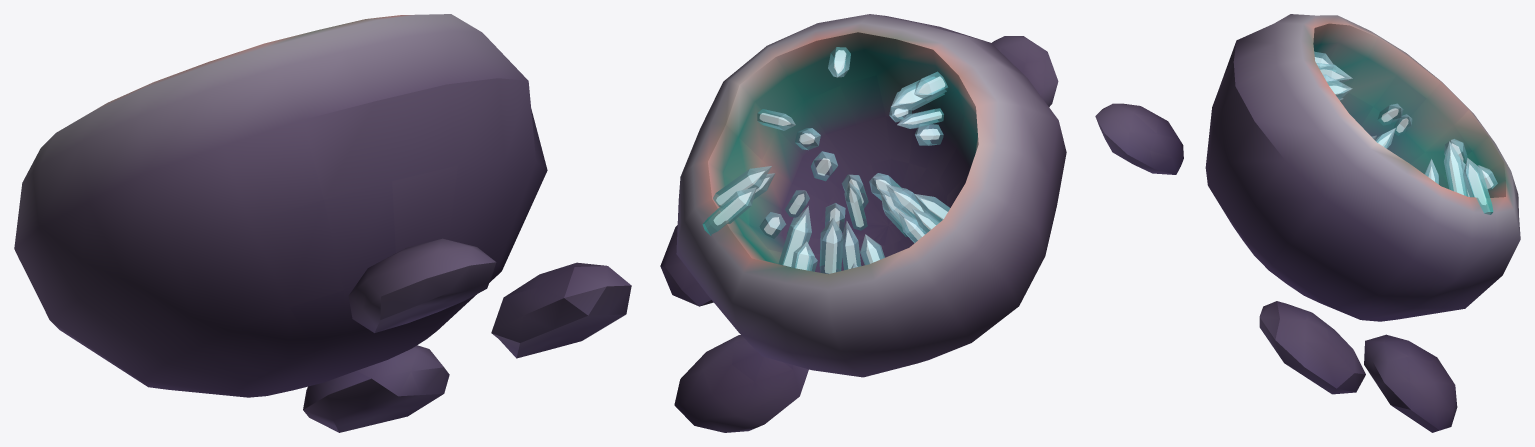
File: amber_misc_geode_a.glb
The picture shows the model from 3 angles, left to right: view 1: azimuth 30°, elevation 25°; view 2: azimuth 150°, elevation 25°; view 3: azimuth 270°, elevation 25°; orthographic projection. The views are drawn at different scales.
Parts seen in each view (by area): view 1: amber_misc_geode_a; view 2: amber_misc_geode_a; view 3: amber_misc_geode_a.
Part boxes in pixels (box(x1,y1,x2,y2)): amber_misc_geode_a: box(14, 14, 631, 432); amber_misc_geode_a: box(660, 14, 1066, 432); amber_misc_geode_a: box(1095, 14, 1520, 432).
Size of the model in its own units: 3.55 by 3.13 by 3.62.
